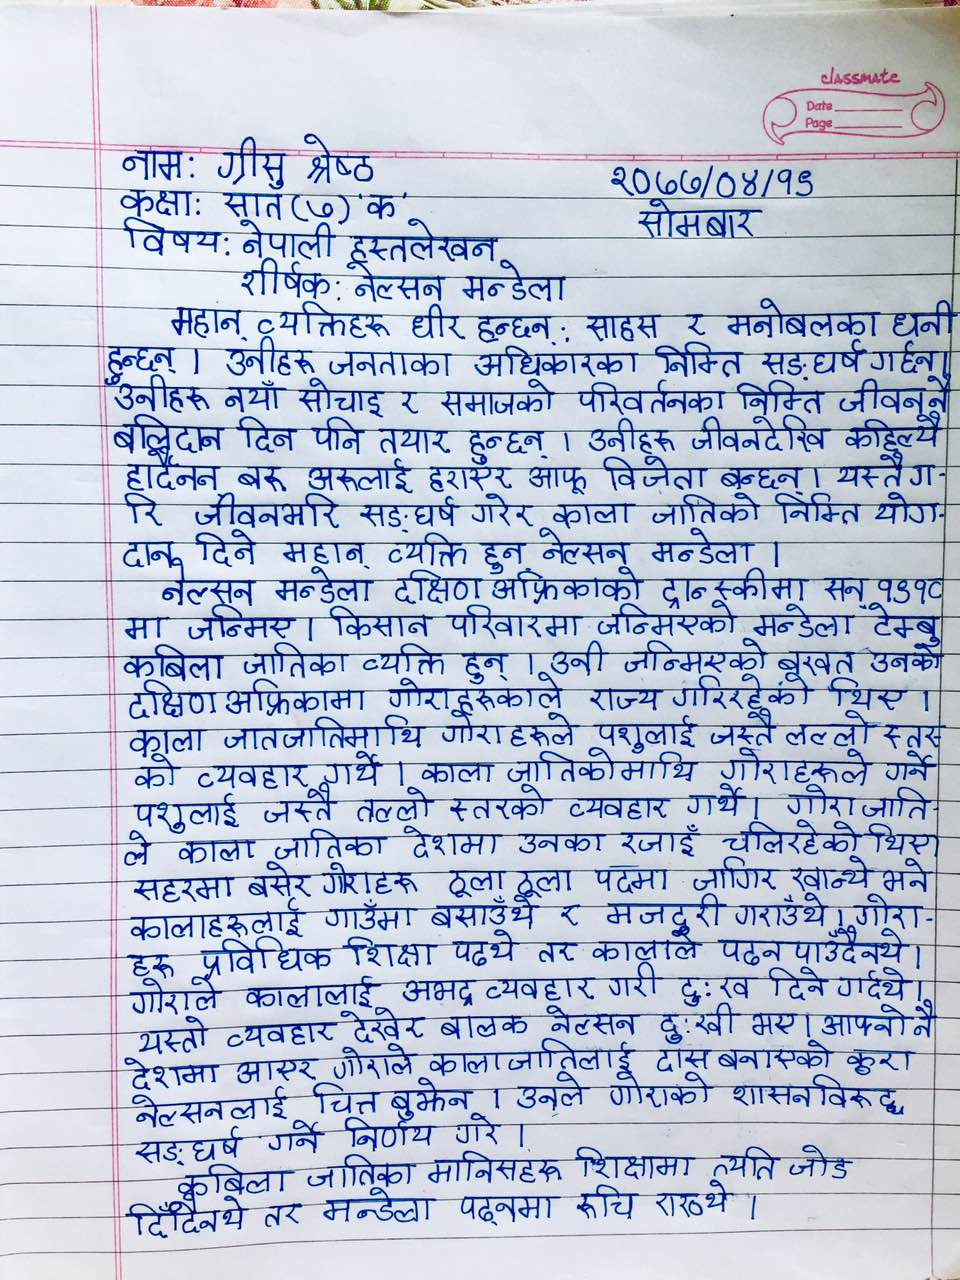text: (421, 1035, 639, 1077), (604, 159, 821, 200), (222, 711, 433, 752), (506, 747, 698, 787), (731, 1073, 906, 1116), (350, 214, 499, 263), (129, 1087, 290, 1132), (387, 671, 568, 711), (466, 342, 643, 381), (728, 295, 881, 341), (718, 746, 875, 789), (635, 195, 770, 243), (688, 412, 832, 457), (194, 491, 345, 532), (572, 378, 730, 417), (256, 296, 392, 342), (657, 565, 810, 606), (422, 1146, 568, 1187), (196, 933, 337, 976), (441, 601, 587, 641), (623, 636, 769, 676), (718, 817, 865, 857), (123, 1195, 253, 1240), (219, 677, 369, 716), (490, 567, 643, 605), (438, 708, 579, 748), (456, 258, 573, 306), (596, 600, 740, 638), (101, 372, 214, 417), (317, 1186, 440, 1228), (111, 411, 231, 454), (118, 446, 225, 494), (675, 673, 818, 709), (113, 211, 222, 257), (573, 1143, 698, 1183), (440, 376, 560, 417), (131, 1124, 248, 1166), (243, 973, 382, 1008), (212, 132, 294, 190), (233, 213, 337, 259), (242, 639, 354, 681), (297, 456, 417, 495), (787, 928, 910, 967), (175, 1159, 298, 1197), (301, 128, 379, 187), (129, 792, 244, 833), (324, 345, 459, 379), (748, 602, 860, 643), (762, 337, 868, 380), (271, 824, 387, 864), (215, 335, 322, 377), (646, 337, 753, 379), (348, 255, 450, 299), (781, 706, 875, 753), (595, 454, 712, 492), (591, 927, 705, 967), (649, 526, 757, 567), (589, 714, 702, 753), (184, 603, 298, 641), (447, 782, 551, 824), (356, 495, 467, 534), (318, 860, 426, 900), (651, 492, 764, 530), (118, 643, 231, 681), (306, 1152, 417, 1190), (119, 1051, 225, 1092), (714, 1039, 835, 1074), (236, 256, 332, 300), (124, 677, 220, 722), (123, 976, 227, 1016), (223, 1016, 341, 1051), (341, 1112, 437, 1155), (728, 377, 831, 417), (324, 604, 435, 641), (286, 376, 385, 417), (653, 1000, 741, 1046), (98, 337, 184, 384), (458, 424, 554, 467), (400, 822, 506, 861), (270, 566, 373, 606), (537, 525, 631, 567), (539, 1001, 645, 1038), (605, 1071, 717, 1107), (339, 932, 442, 971), (588, 413, 681, 456), (380, 526, 473, 568), (733, 890, 833, 929), (193, 760, 314, 792), (457, 1189, 561, 1227), (843, 414, 942, 453), (483, 971, 600, 1003), (553, 487, 637, 531), (389, 1076, 475, 1120), (162, 300, 250, 343), (688, 855, 779, 895), (818, 1000, 912, 1039), (866, 599, 942, 647), (328, 1040, 418, 1080), (336, 1006, 429, 1045), (768, 490, 863, 528), (653, 1176, 735, 1221), (512, 1069, 592, 1115), (562, 791, 677, 822), (423, 459, 518, 496), (163, 568, 259, 606), (464, 487, 539, 533), (390, 567, 485, 604), (360, 641, 450, 679), (129, 873, 239, 904), (263, 780, 339, 825), (135, 1014, 212, 1058), (828, 447, 912, 488), (837, 383, 930, 419), (276, 534, 377, 567), (617, 820, 705, 858), (825, 675, 915, 712), (675, 968, 755, 1008), (354, 784, 433, 825), (788, 1139, 856, 1186), (374, 418, 459, 457), (112, 179, 194, 218), (309, 1076, 382, 1119), (115, 141, 185, 185), (400, 301, 470, 346), (705, 708, 779, 749), (866, 641, 946, 679), (713, 461, 810, 492), (888, 296, 958, 340), (710, 1143, 785, 1183), (872, 488, 945, 529), (439, 1010, 531, 1042), (857, 784, 933, 823), (836, 963, 908, 1004), (472, 309, 558, 344), (449, 928, 525, 967), (243, 861, 316, 901), (844, 1041, 920, 1079), (123, 724, 210, 757), (572, 1180, 640, 1222), (774, 644, 859, 677), (232, 414, 304, 454), (191, 526, 258, 567), (306, 415, 372, 457), (850, 890, 924, 927), (763, 963, 833, 1002), (868, 340, 943, 376), (519, 459, 592, 496), (514, 829, 610, 858), (785, 782, 856, 819), (863, 820, 935, 858), (590, 863, 673, 895), (398, 975, 478, 1008), (174, 837, 261, 867), (318, 750, 387, 787), (211, 184, 286, 219), (578, 311, 664, 342), (222, 376, 286, 415), (680, 782, 746, 819), (603, 959, 665, 1000), (415, 757, 500, 786), (874, 573, 948, 607), (233, 1055, 317, 1084), (548, 641, 614, 677), (265, 1118, 328, 1156), (585, 684, 667, 714), (111, 535, 178, 570), (459, 643, 513, 686), (880, 749, 941, 787), (880, 719, 951, 751), (474, 533, 528, 574), (231, 462, 294, 497), (712, 935, 788, 965), (451, 1111, 507, 1149), (443, 865, 508, 897), (819, 570, 869, 612), (134, 751, 182, 794), (653, 1041, 717, 1073), (514, 865, 575, 897), (120, 947, 181, 979), (748, 1006, 802, 1041), (117, 609, 171, 641), (115, 827, 156, 870), (389, 381, 431, 420), (907, 1000, 943, 1041), (533, 936, 582, 967), (260, 1200, 306, 1230), (364, 186, 399, 220), (924, 379, 955, 415), (677, 308, 714, 337), (301, 194, 341, 217)
